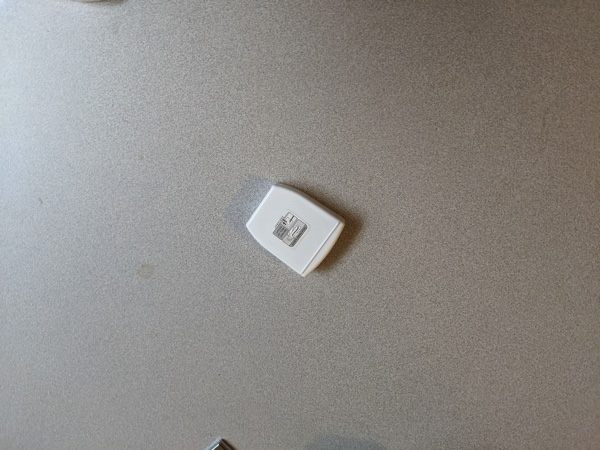plastic: (240, 171, 364, 290)
